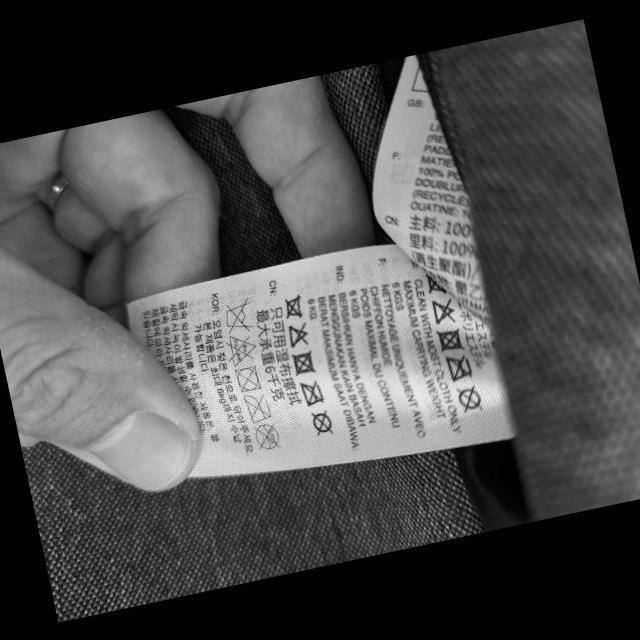DN_bleach: (222, 329, 259, 369), (429, 294, 458, 326), (284, 320, 312, 350)
DN_dry_clean: (250, 420, 282, 454), (454, 381, 484, 417), (308, 408, 334, 438)
DN_iron: (239, 390, 272, 426), (442, 349, 472, 384), (298, 377, 326, 410)
DN_tumble_dry: (232, 362, 262, 395), (434, 324, 464, 355), (288, 348, 316, 378)
DN_wash: (220, 295, 258, 337), (280, 293, 306, 322), (423, 267, 448, 297)
